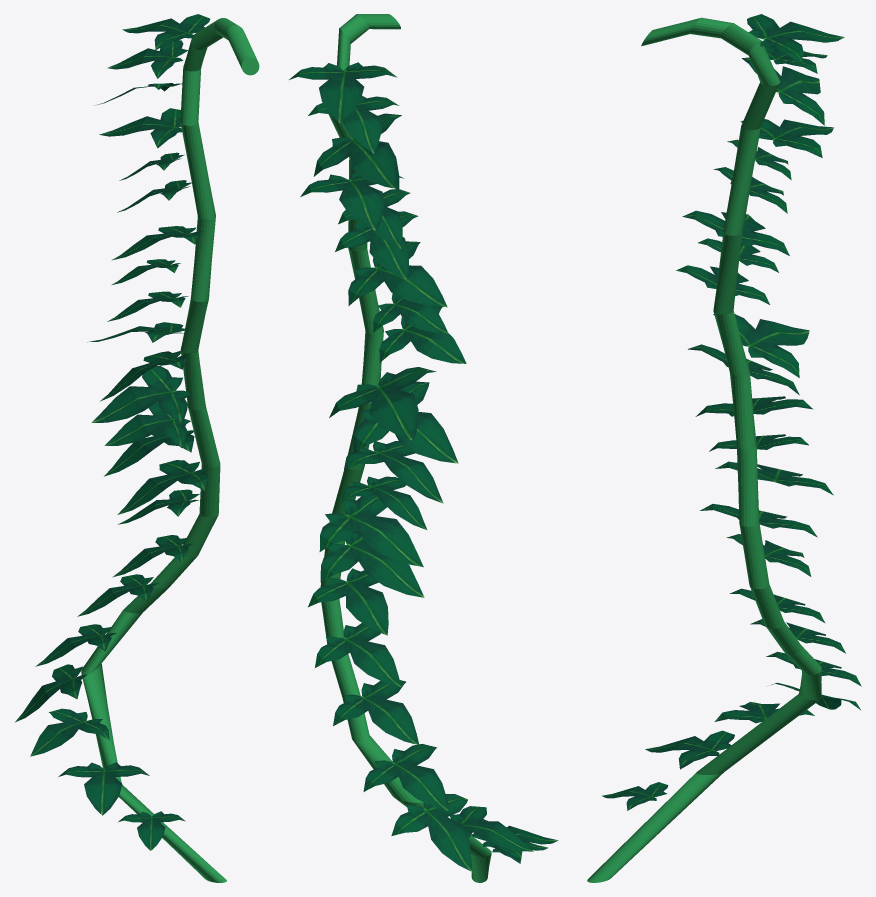
File: hangVine2.fbx
The picture shows the model from 3 angles, left to right: view 1: azimuth 30°, elevation 25°; view 2: azimuth 150°, elevation 25°; view 3: azimuth 270°, elevation 25°; orthographic projection. The views are drawn at different scales.
Parts seen in each view (by area): view 1: leaf2 ORIGINAL.124; view 2: leaf2 ORIGINAL.124; view 3: leaf2 ORIGINAL.124.
Boxes of the visible parts, x1,y1,x2,y2 form: leaf2 ORIGINAL.124: [15, 14, 259, 882]; leaf2 ORIGINAL.124: [289, 14, 558, 882]; leaf2 ORIGINAL.124: [587, 14, 861, 882].
Bounding box in the file's own units: 25.81 × 98.32 × 27.34.
